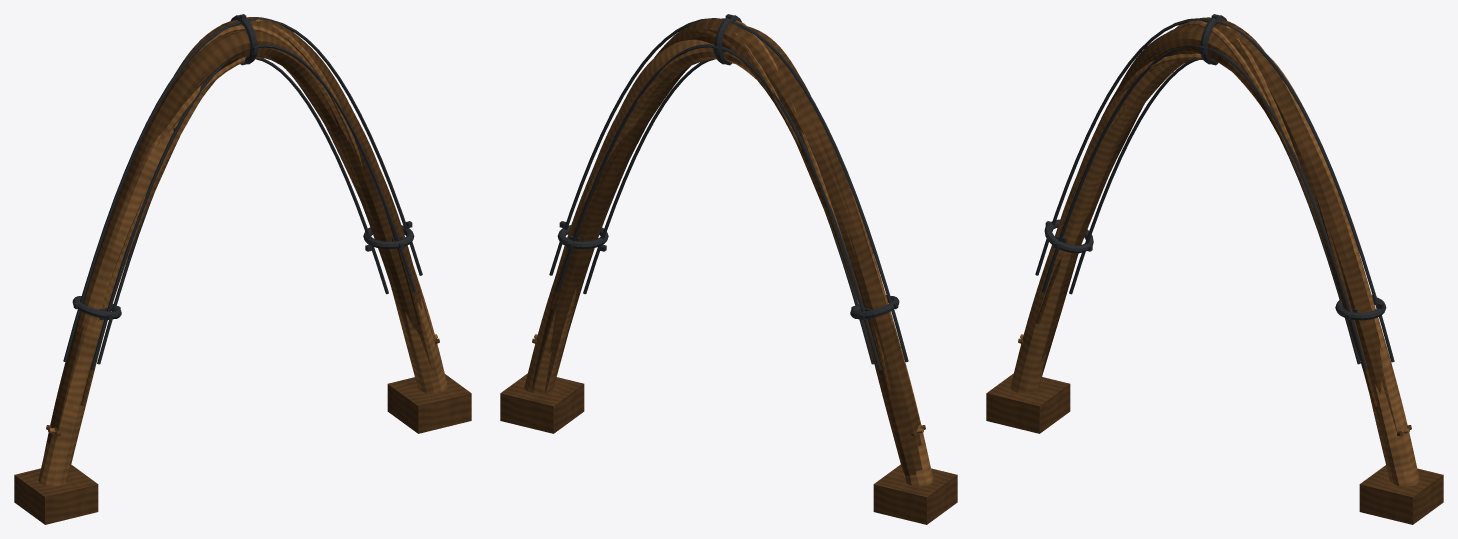
Rendered from rootforged-rootforged-arch-rib-8m.glb.
The picture shows the model from 3 angles, left to right: view 1: azimuth 30°, elevation 25°; view 2: azimuth 150°, elevation 25°; view 3: azimuth 330°, elevation 25°; orthographic projection.
Parts seen in each view (by area): view 1: braided-root-1, braided-root-0, braided-root-2, arch-modular-foot-1, arch-modular-foot--1, forged-longitudinal-strap-1, forged-longitudinal-strap-2, forged-longitudinal-strap-3, bark-ridge-3, surface-root-vein-1, bark-ridge-2, surface-root-vein-0 (+1 smaller); view 2: braided-root-0, braided-root-1, braided-root-2, arch-modular-foot-1, arch-modular-foot--1, forged-longitudinal-strap-1, forged-longitudinal-strap-0, forged-longitudinal-strap-3, bark-ridge-0, bark-ridge-3; view 3: braided-root-1, braided-root-2, arch-modular-foot--1, braided-root-0, arch-modular-foot-1, forged-longitudinal-strap-1, forged-longitudinal-strap-2, forged-longitudinal-strap-3, surface-root-vein-1, bark-ridge-2, bark-ridge-3, iron-collar-0 (+1 smaller).
Boxes of the visible parts, x1=… form: braided-root-1: x1=38, y1=79, x2=447, y2=486; braided-root-0: x1=44, y1=30, x2=378, y2=454; braided-root-2: x1=148, y1=17, x2=434, y2=369; arch-modular-foot-1: x1=387, y1=374, x2=471, y2=433; arch-modular-foot--1: x1=14, y1=465, x2=98, y2=524; forged-longitudinal-strap-1: x1=63, y1=18, x2=422, y2=362; forged-longitudinal-strap-2: x1=90, y1=44, x2=415, y2=370; forged-longitudinal-strap-3: x1=97, y1=58, x2=388, y2=364; bark-ridge-3: x1=196, y1=25, x2=348, y2=140; surface-root-vein-1: x1=221, y1=19, x2=362, y2=167; bark-ridge-2: x1=81, y1=136, x2=421, y2=405; surface-root-vein-0: x1=157, y1=57, x2=263, y2=145; braided-root-0: x1=532, y1=26, x2=922, y2=476; braided-root-1: x1=524, y1=39, x2=933, y2=486; braided-root-2: x1=559, y1=18, x2=859, y2=364; arch-modular-foot-1: x1=500, y1=373, x2=584, y2=433; arch-modular-foot--1: x1=873, y1=464, x2=957, y2=524; forged-longitudinal-strap-1: x1=549, y1=18, x2=908, y2=362; forged-longitudinal-strap-0: x1=556, y1=44, x2=881, y2=370; forged-longitudinal-strap-3: x1=583, y1=59, x2=873, y2=364; bark-ridge-0: x1=550, y1=128, x2=890, y2=391; bark-ridge-3: x1=722, y1=18, x2=861, y2=308; braided-root-1: x1=1010, y1=56, x2=1419, y2=486; braided-root-2: x1=1052, y1=17, x2=1397, y2=455; arch-modular-foot--1: x1=986, y1=373, x2=1070, y2=433; braided-root-0: x1=1041, y1=26, x2=1302, y2=372; arch-modular-foot-1: x1=1359, y1=465, x2=1443, y2=524; forged-longitudinal-strap-1: x1=1035, y1=18, x2=1394, y2=362; forged-longitudinal-strap-2: x1=1042, y1=46, x2=1367, y2=370; forged-longitudinal-strap-3: x1=1069, y1=59, x2=1360, y2=364; surface-root-vein-1: x1=1047, y1=26, x2=1317, y2=300; bark-ridge-2: x1=1036, y1=188, x2=1377, y2=406; bark-ridge-3: x1=1175, y1=20, x2=1298, y2=174; iron-collar-0: x1=1044, y1=219, x2=1093, y2=253.
Bounding box in the file's own units: 8 × 8 × 1.
Materials: 3 (3 with a texture image).
